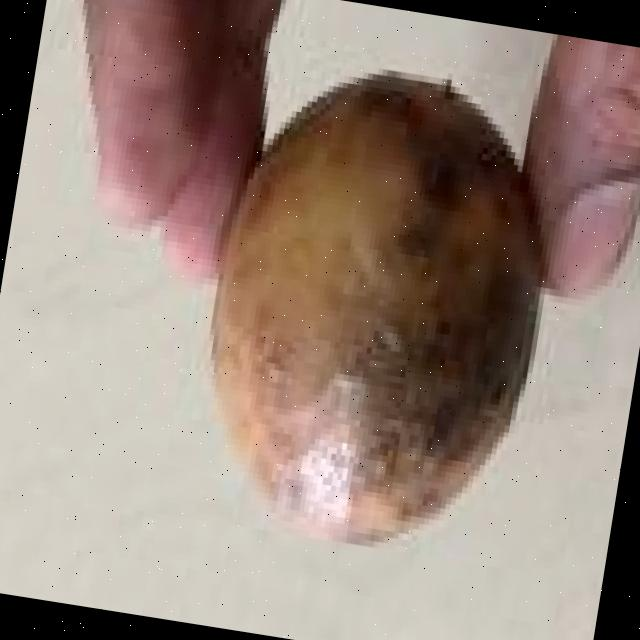Bad_Lime-0-1-day: (214, 68, 552, 550)
